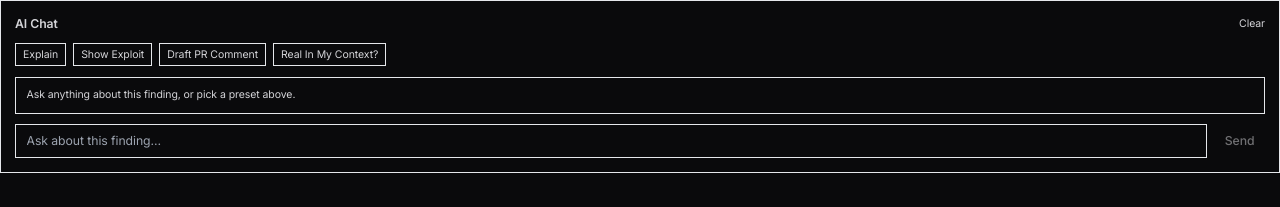
Scenario: ChatSidebar › optimistically renders user message and POSTs to API
Type "hi there" into the field named "chat message" at (611, 141), box left=15, top=124, right=1207, bottom=158
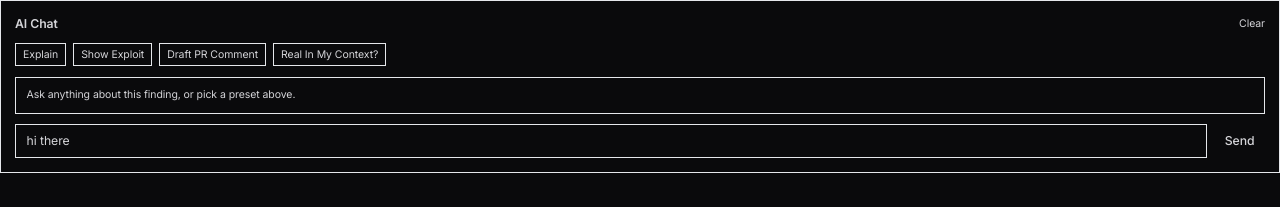
Click the button "Send" at (1240, 141), box left=1214, top=124, right=1265, bottom=158
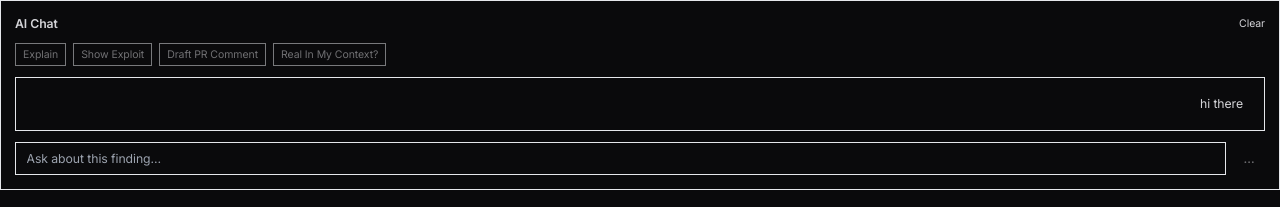
Expected: the text "hi there" is shown, left=1200, top=96, right=1243, bottom=111
